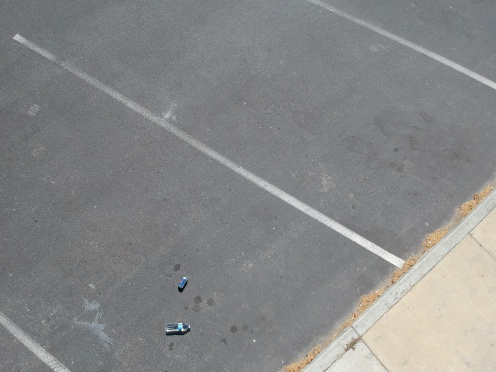bottle: (158, 319, 201, 338)
can: (173, 273, 192, 294)
